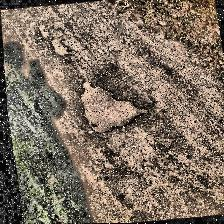pothole: (74, 76, 150, 136)
